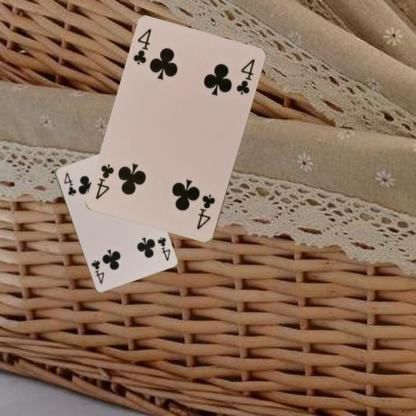4c: (194, 191, 217, 231), (131, 26, 153, 66), (154, 234, 172, 262), (61, 170, 78, 197)
